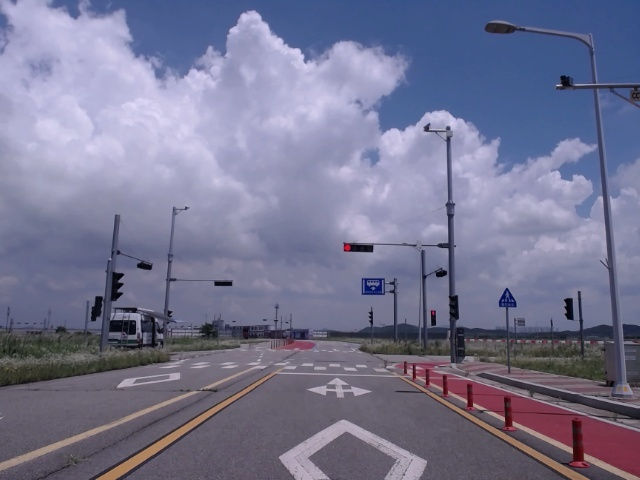red_4: (344, 244, 373, 252)
